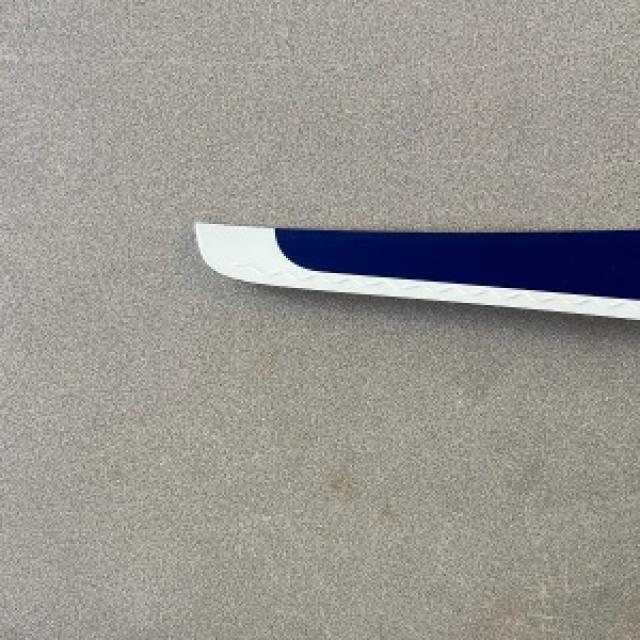healthy: (337, 270, 638, 318), (196, 222, 334, 288)
